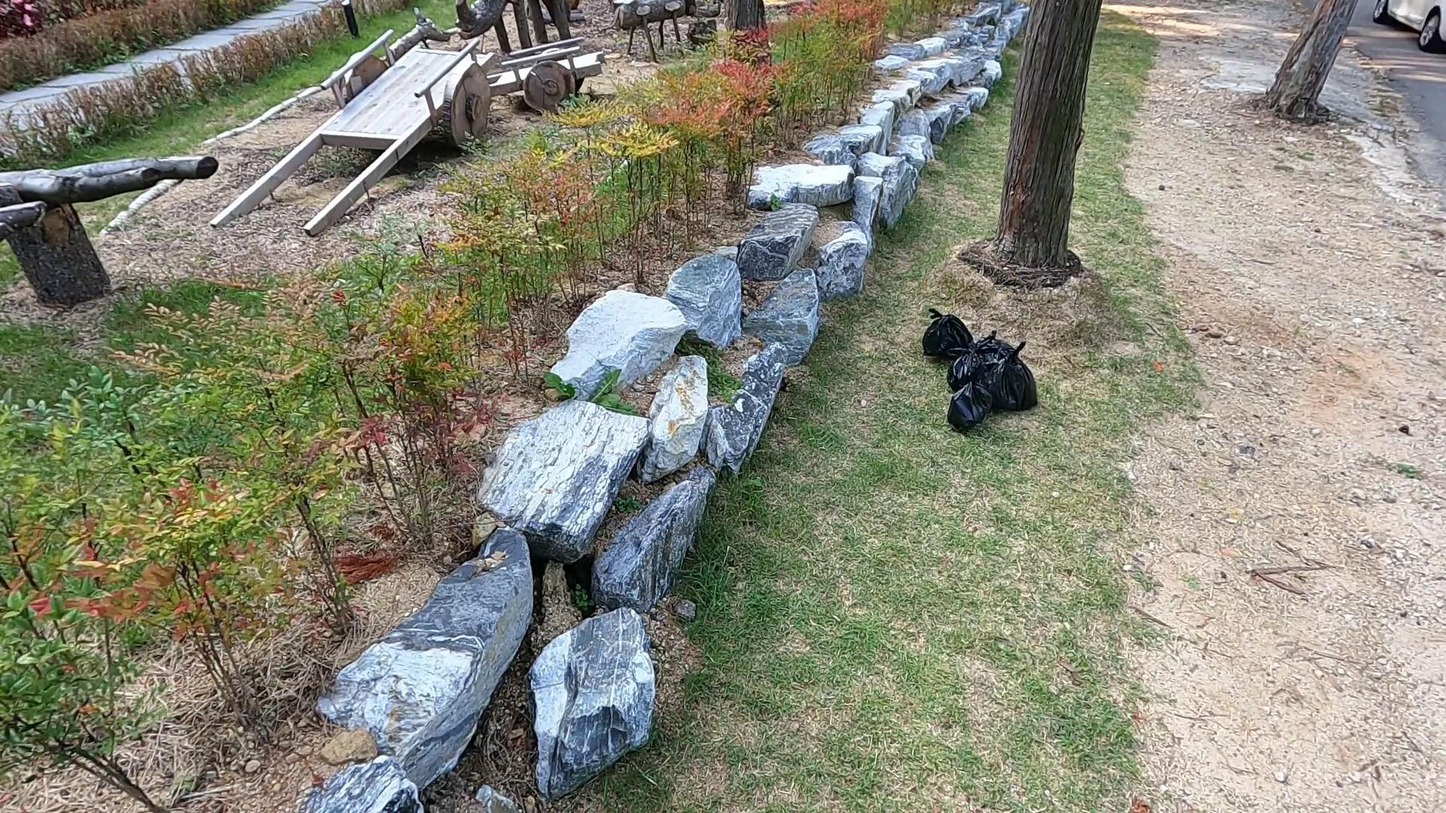trash: (994, 345, 1038, 417), (920, 307, 974, 360), (946, 382, 993, 432), (945, 348, 991, 393), (972, 331, 1016, 373)
